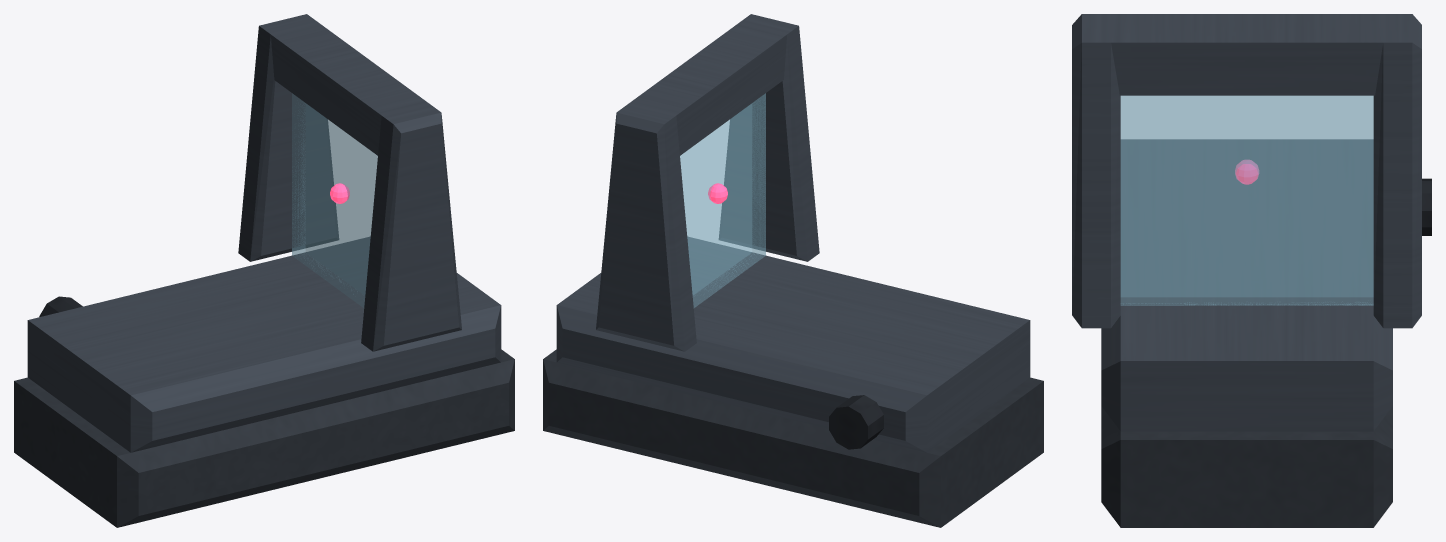
The model's file is sight_reflex_v2.glb.
3 renders of one model, left to right at view 1: azimuth 30°, elevation 25°; view 2: azimuth 150°, elevation 25°; view 3: azimuth 270°, elevation 25°, orthographic. The views are drawn at different scales.
Visible parts, largest first — view 1: sight_reflex_mesh; view 2: sight_reflex_mesh; view 3: sight_reflex_mesh.
Part boxes in pixels (box(x1,y1,x2,y2)): sight_reflex_mesh: box(14, 14, 514, 527); sight_reflex_mesh: box(543, 14, 1043, 527); sight_reflex_mesh: box(1072, 14, 1431, 527).
Bounding box in the file's own units: 0.058 × 0.049 × 0.037.
5 materials, 3 textured.
